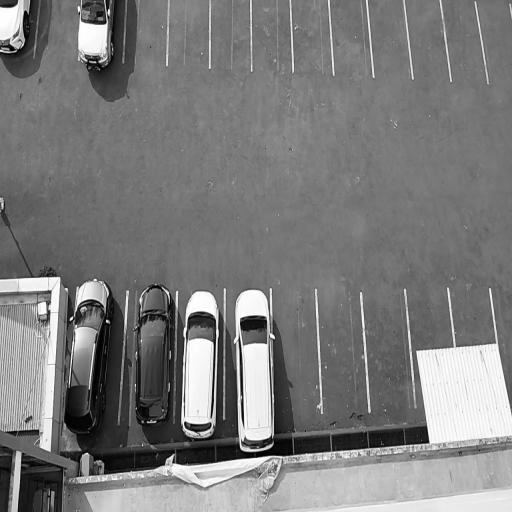Car: (61, 275, 116, 438), (230, 288, 277, 453), (130, 276, 175, 429), (180, 286, 221, 440), (74, 0, 119, 73)
Space Available: (316, 286, 370, 413), (362, 290, 416, 411), (272, 288, 321, 412), (440, 0, 488, 81), (366, 0, 414, 79), (405, 0, 451, 81), (328, 0, 373, 77), (290, 0, 334, 75), (476, 0, 512, 84), (252, 0, 294, 72), (209, 0, 252, 70), (406, 288, 453, 351), (123, 0, 169, 62), (167, 0, 210, 66), (450, 288, 496, 344), (34, 0, 78, 58)
